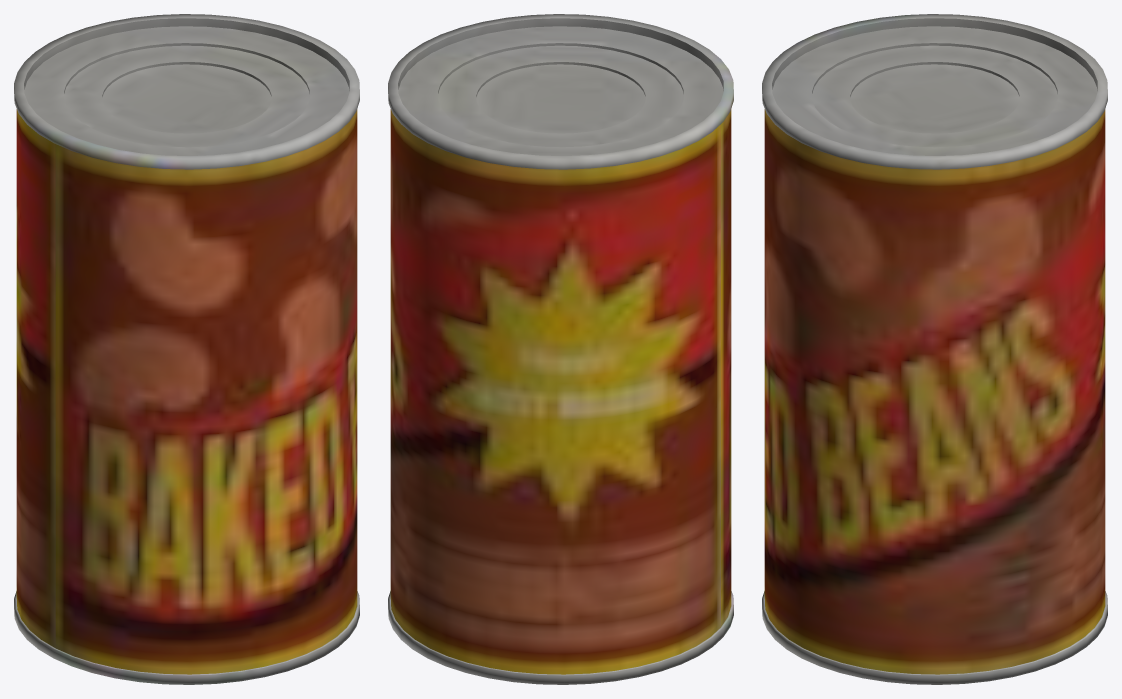
The model's file is lata_feijao.glb.
3 renders of one model, left to right at view 1: azimuth 30°, elevation 25°; view 2: azimuth 150°, elevation 25°; view 3: azimuth 270°, elevation 25°, orthographic.
Visible parts, largest first — view 1: Malha; view 2: Malha; view 3: Malha.
Part boxes in pixels (<box>): Malha: <box>14,14,359,684</box>; Malha: <box>388,14,733,684</box>; Malha: <box>762,14,1107,684</box>.
Size of the model in its own units: 0.0778 by 0.13 by 0.0777.
Materials: 1 (1 with a texture image).
